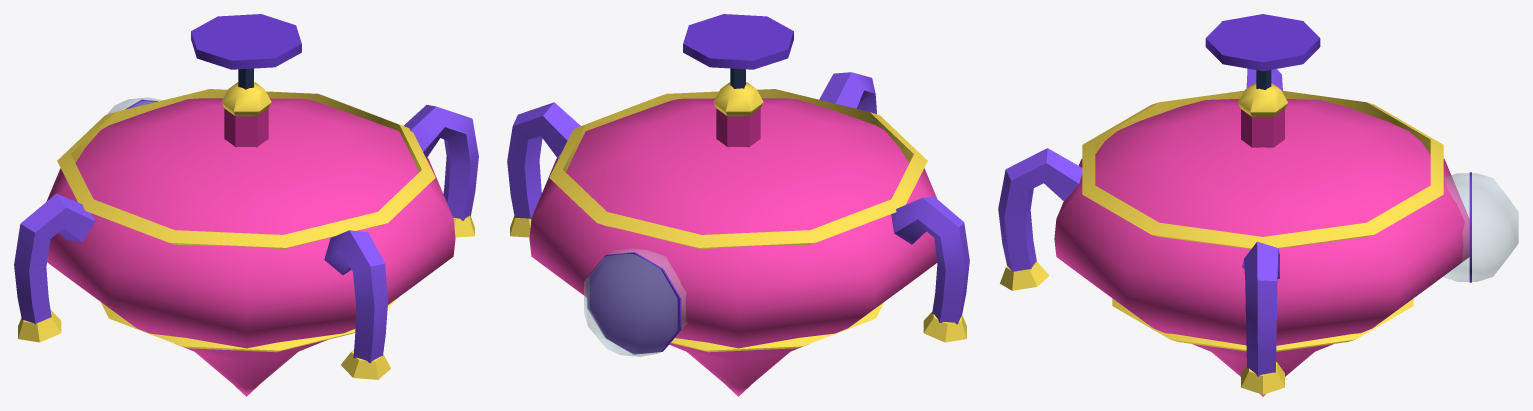
The model's file is machine_toy_spinner_lod1.glb.
The picture shows the model from 3 angles, left to right: view 1: azimuth 30°, elevation 25°; view 2: azimuth 150°, elevation 25°; view 3: azimuth 270°, elevation 25°; orthographic projection.
Visible parts, largest first — view 1: machine_toy_spinner_Spinner_LOD1, machine_toy_spinner_Trunks_LOD1, machine_toy_spinner_Mount_LOD1; view 2: machine_toy_spinner_Spinner_LOD1, machine_toy_spinner_Trunks_LOD1, machine_toy_spinner_Mount_LOD1; view 3: machine_toy_spinner_Spinner_LOD1, machine_toy_spinner_Trunks_LOD1, machine_toy_spinner_Mount_LOD1.
Boxes of the visible parts, x1=… form: machine_toy_spinner_Spinner_LOD1: x1=46, y1=82, x2=455, y2=396; machine_toy_spinner_Trunks_LOD1: x1=14, y1=104, x2=478, y2=379; machine_toy_spinner_Mount_LOD1: x1=191, y1=14, x2=301, y2=89; machine_toy_spinner_Spinner_LOD1: x1=529, y1=82, x2=937, y2=396; machine_toy_spinner_Trunks_LOD1: x1=507, y1=72, x2=969, y2=342; machine_toy_spinner_Mount_LOD1: x1=683, y1=14, x2=793, y2=88; machine_toy_spinner_Spinner_LOD1: x1=1054, y1=83, x2=1518, y2=396; machine_toy_spinner_Trunks_LOD1: x1=998, y1=68, x2=1284, y2=394; machine_toy_spinner_Mount_LOD1: x1=1205, y1=14, x2=1320, y2=89.
Bounding box in the file's own units: 24.08 × 18 × 23.67.
Materials: 2 (1 with a texture image).
